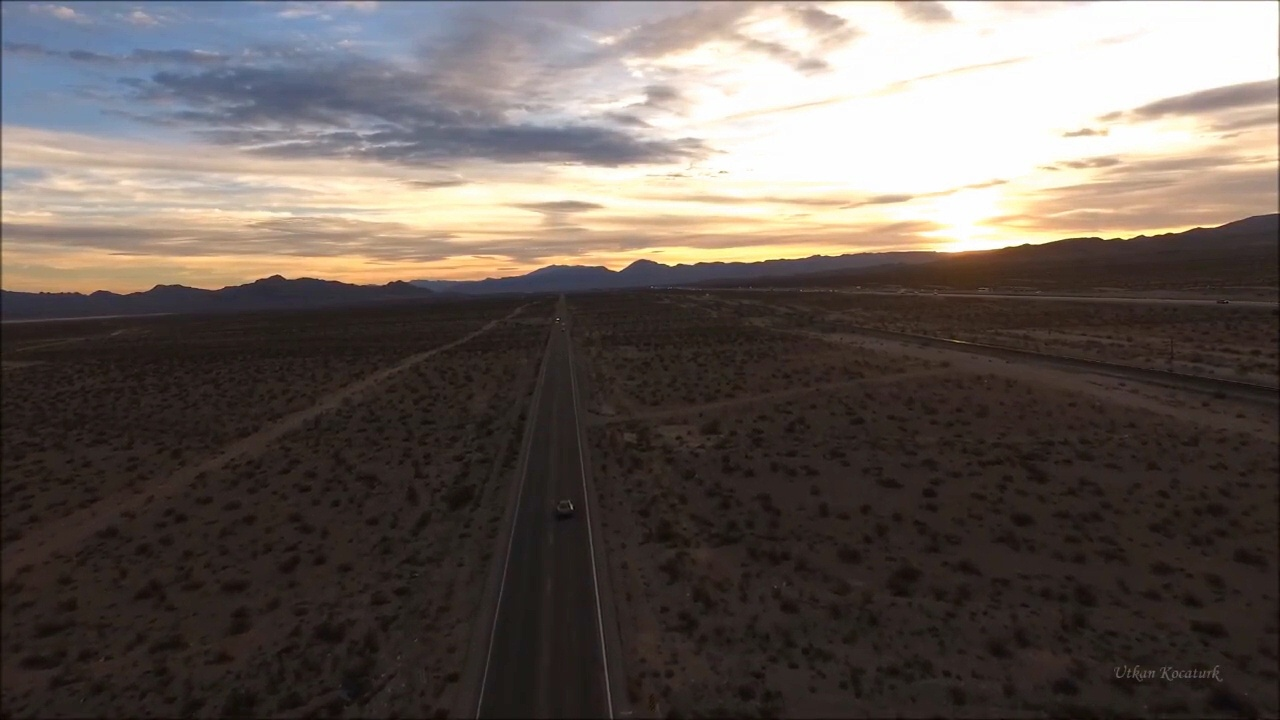araba: (556, 498, 578, 517)
